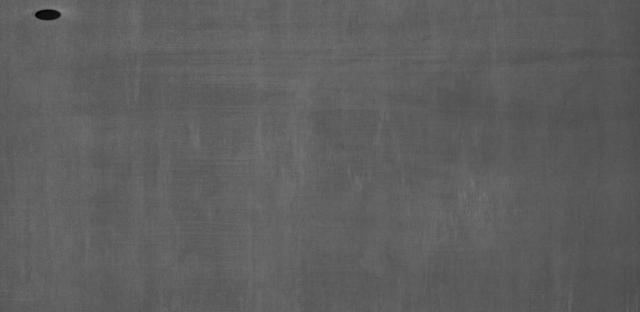punching_hole: (32, 6, 66, 24)
